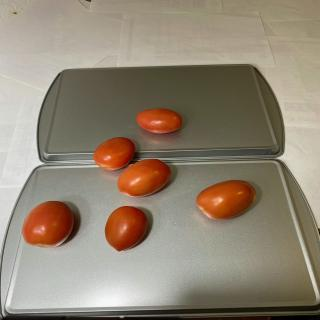Tomato: (22, 200, 74, 248), (196, 180, 256, 220), (117, 158, 171, 198), (105, 206, 148, 252), (93, 137, 135, 170), (136, 108, 182, 134)
